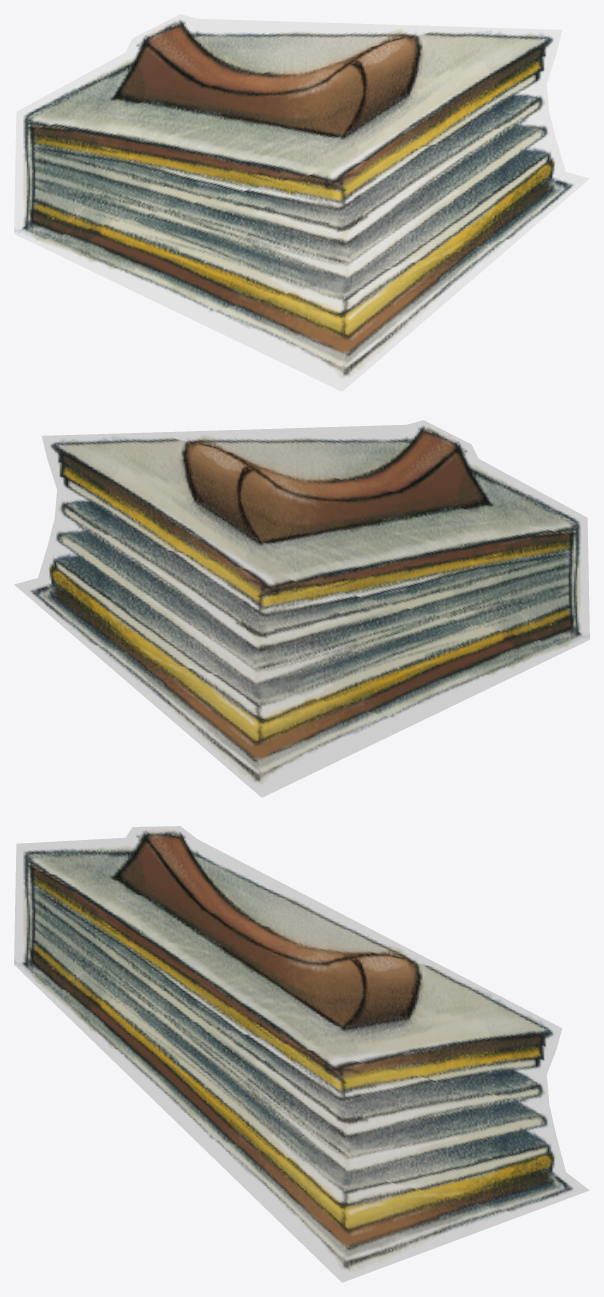
3 renders of one model, top to bottom at view 1: azimuth 30°, elevation 25°; view 2: azimuth 150°, elevation 25°; view 3: azimuth 330°, elevation 25°, orthographic.
Parts seen in each view (by area): view 1: Plane; view 2: Plane; view 3: Plane.
Boxes of the visible parts, left/top/right/bottom form: Plane: left=14, top=14, right=589, bottom=391; Plane: left=14, top=420, right=589, bottom=797; Plane: left=14, top=826, right=589, bottom=1282.
Bounding box in the file's own units: 3.36 × 2.33 × 0.
1 material, 1 textured.
